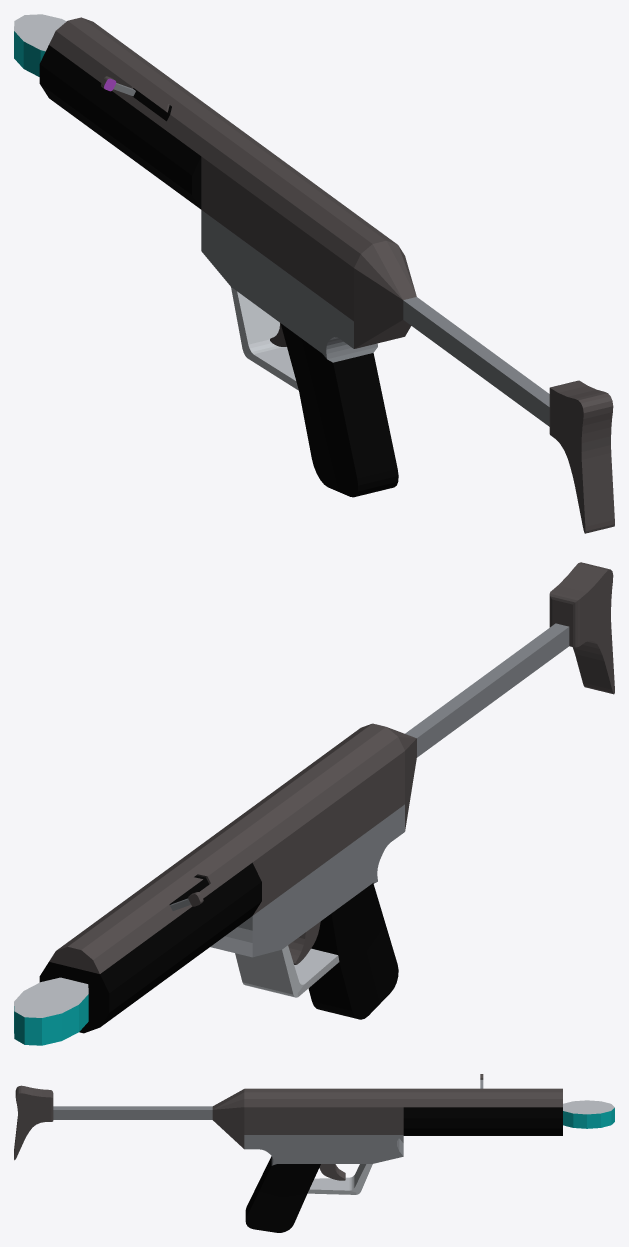
The model's file is KP5SD_3DModel_2.fbx.
The picture shows the model from 3 angles, top to bottom: view 1: azimuth 30°, elevation 25°; view 2: azimuth 150°, elevation 25°; view 3: azimuth 270°, elevation 25°; orthographic projection. The views are drawn at different scales.
Parts seen in each view (by area): view 1: KP5SD; view 2: KP5SD; view 3: KP5SD.
Part boxes in pixels (bbox=[...]): KP5SD: bbox=[14, 14, 614, 533]; KP5SD: bbox=[14, 562, 614, 1045]; KP5SD: bbox=[14, 1085, 614, 1232].
Size of the model in its own units: 0.1604 by 0.4928 by 1.89.
